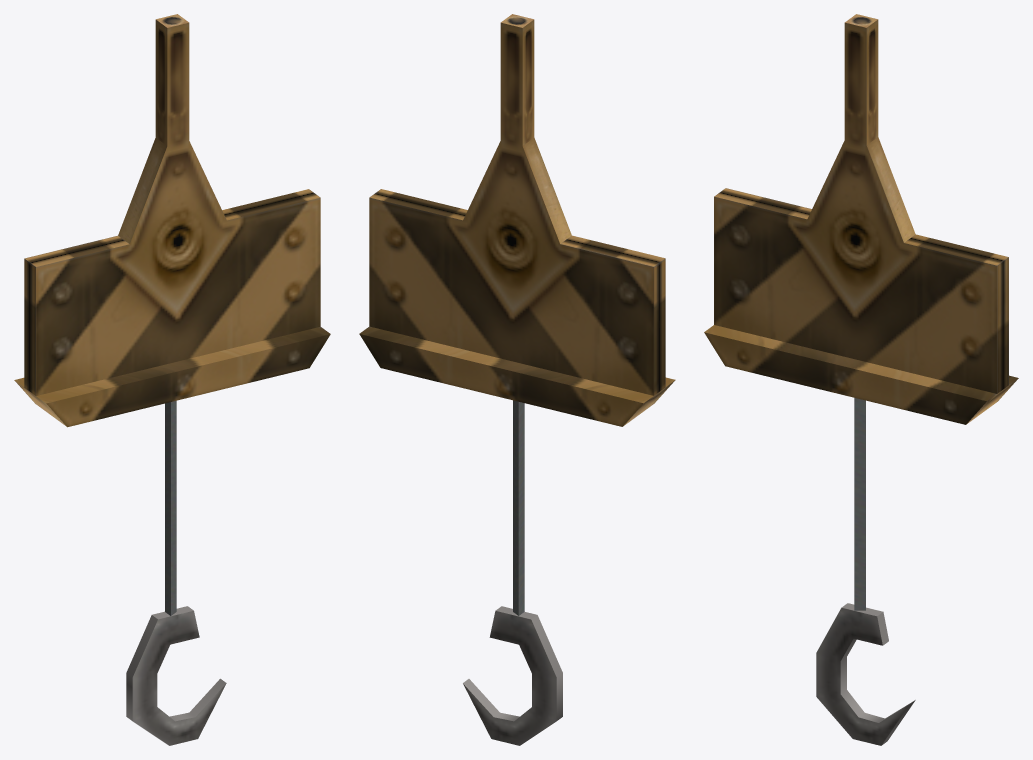
File: HookEdited.fbx
3 views of the same model, side by side, from view 1: azimuth 30°, elevation 25°; view 2: azimuth 150°, elevation 25°; view 3: azimuth 330°, elevation 25° (orthographic).
Visible parts, largest first — view 1: Hook01; view 2: Hook01; view 3: Hook01.
Part boxes in pixels (x1,y1,x2,y2): Hook01: (14, 14, 330, 745); Hook01: (359, 14, 675, 745); Hook01: (704, 14, 1018, 745).
Bounding box in the file's own units: 888 × 173 × 2150.
Materials: 1 (1 with a texture image).
